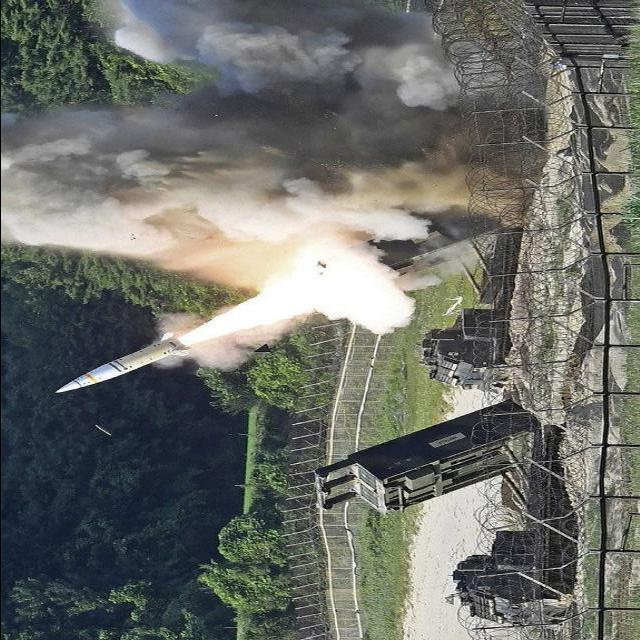missile: (54, 336, 184, 397)
